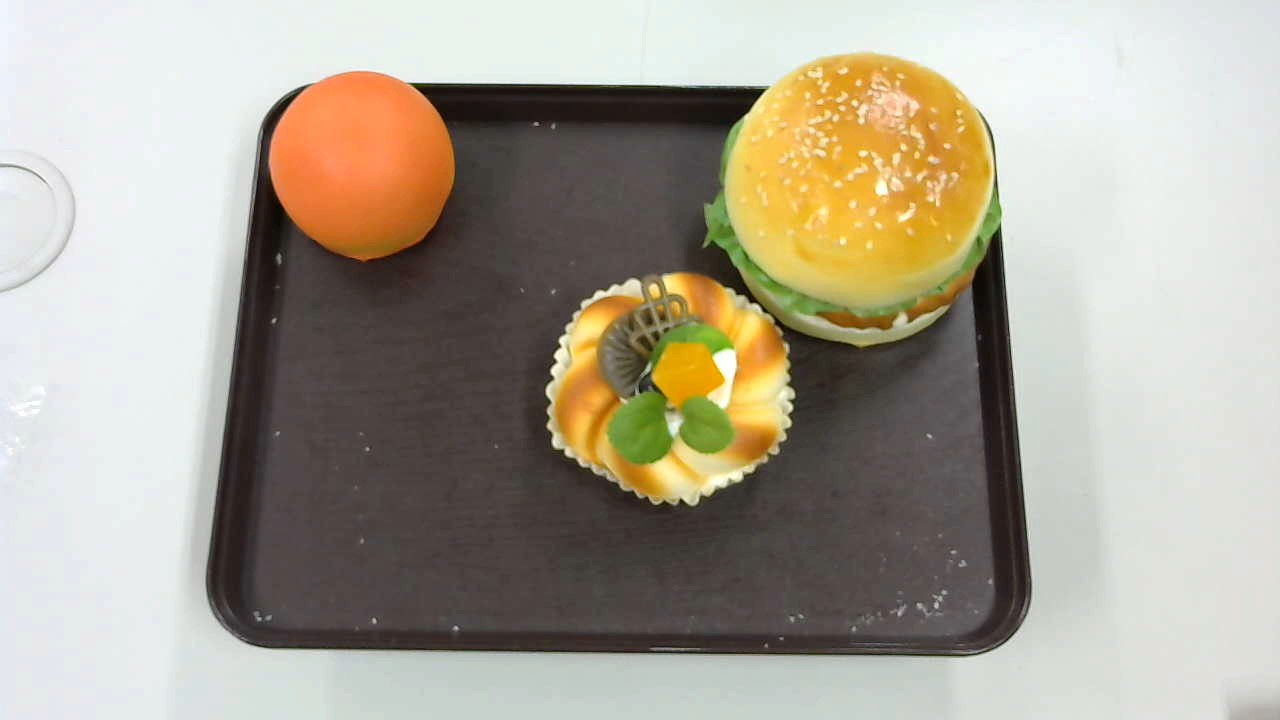bun: (269, 72, 455, 260)
fruit tart: (545, 270, 796, 507)
hamburger: (701, 52, 1004, 347)
